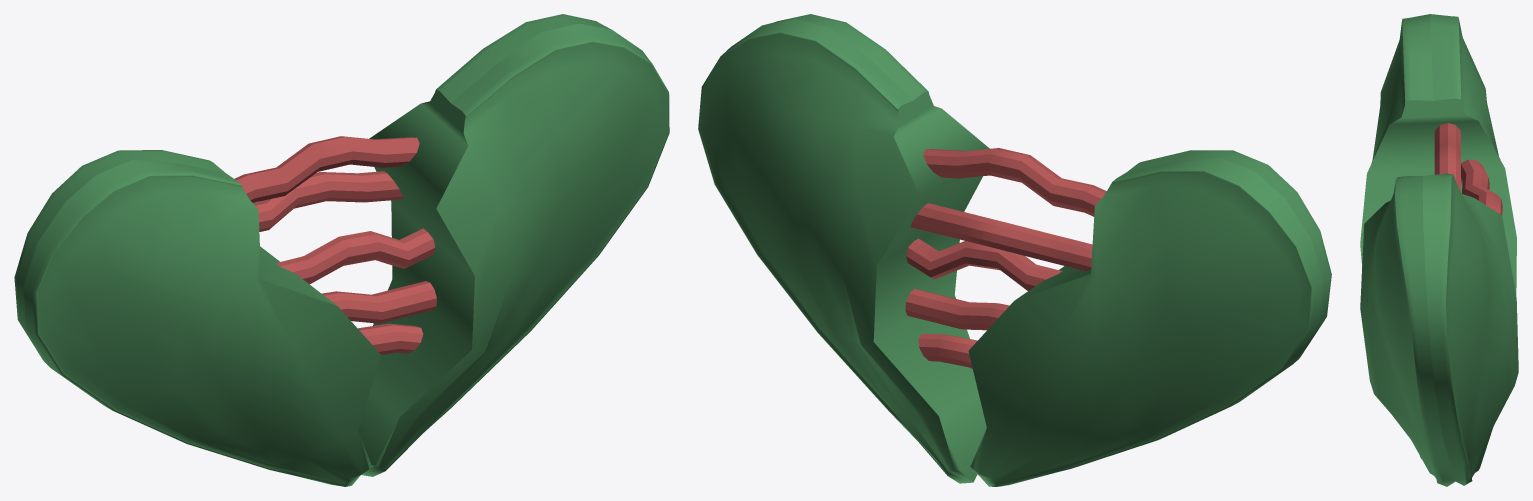
Rendered from Dragon Heartstring.fbx.
3 renders of one model, left to right at view 1: azimuth 30°, elevation 25°; view 2: azimuth 150°, elevation 25°; view 3: azimuth 270°, elevation 25°, orthographic. The views are drawn at different scales.
Parts seen in each view (by area): view 1: polySurface6; view 2: polySurface6; view 3: polySurface6.
Boxes of the visible parts, x1,y1,x2,y2 form: polySurface6: (14,14,669,486); polySurface6: (698,14,1331,486); polySurface6: (1360,14,1518,486).
Bounding box in the file's own units: 4.91 × 3.07 × 1.16.
